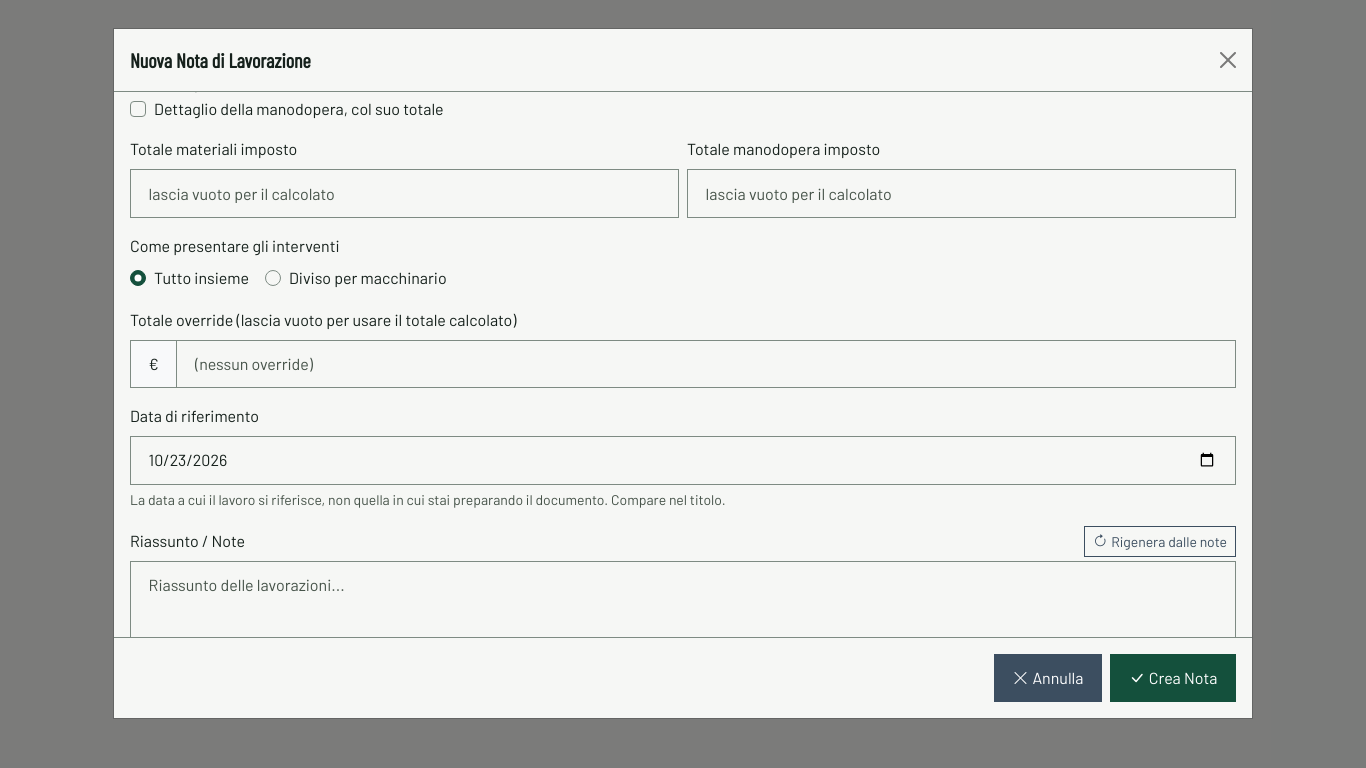
Test: NotaLavorazioneFormModal — i dettagli seguono i totali imposti › il totale complessivo imposto disabilita entrambi
(page scrolled)
Type "900" into the number field with test id "totale-override" at (706,364), box [176,340,1236,388]
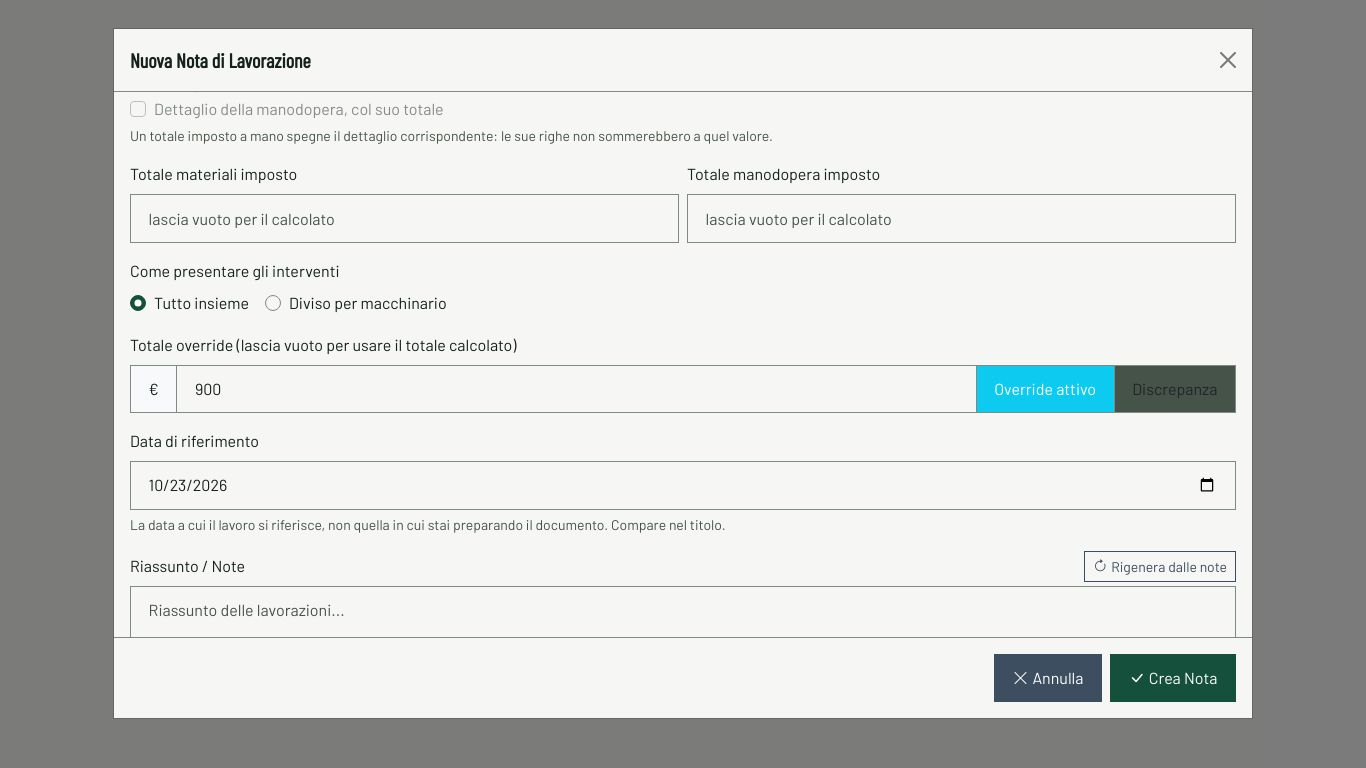
Now the checkbox with test id "dettaglio-manodopera" is disabled, box [130,101,146,117]
